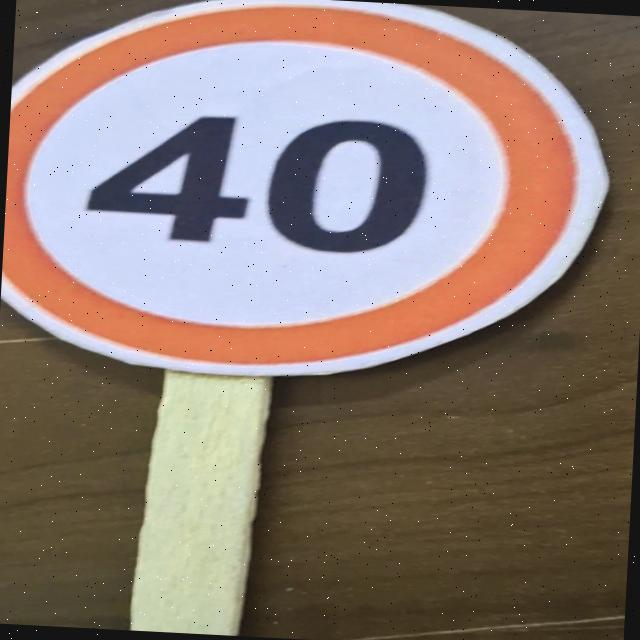Speed40: (0, 0, 622, 400)
